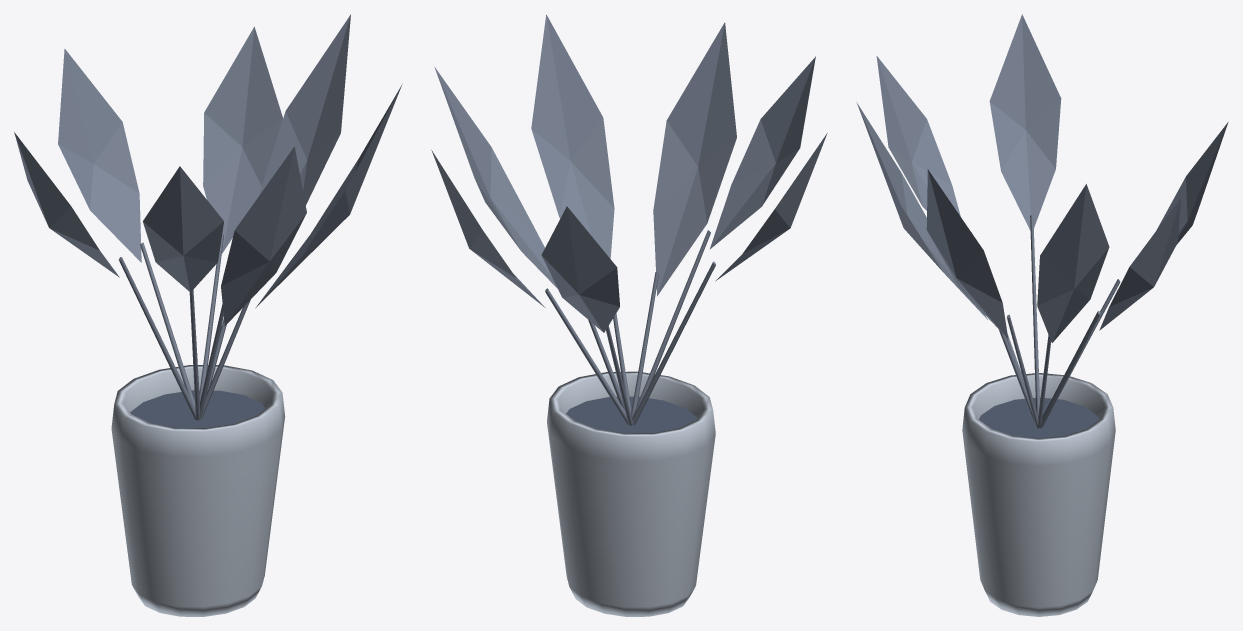
File: 小盆栽.glb
3 views of the same model, side by side, from view 1: azimuth 30°, elevation 25°; view 2: azimuth 150°, elevation 25°; view 3: azimuth 270°, elevation 25° (orthographic). The views are drawn at different scales.
Parts seen in each view (by area): view 1: decor-small-plant; view 2: decor-small-plant; view 3: decor-small-plant.
Boxes of the visible parts, left/top/right/bottom form: decor-small-plant: left=14, top=14, right=402, bottom=616; decor-small-plant: left=431, top=14, right=827, bottom=616; decor-small-plant: left=856, top=14, right=1228, bottom=616.
Bounding box in the file's own units: 0.24 × 0.32 × 0.22.
